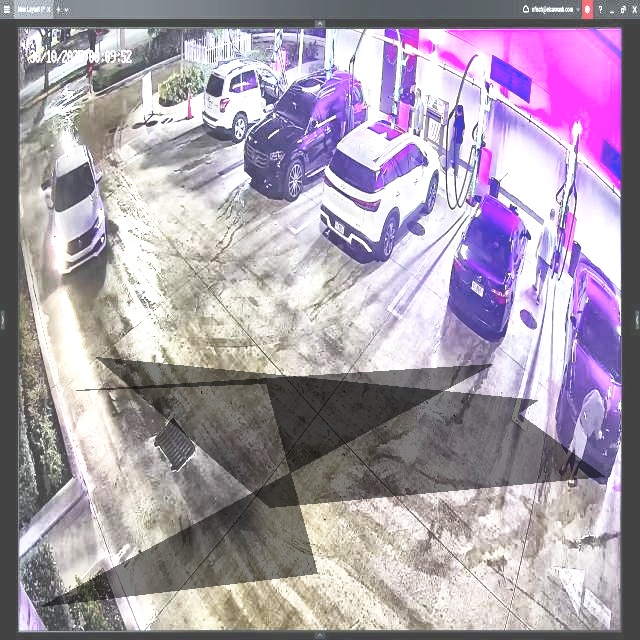Car: (320, 118, 440, 258), (243, 68, 368, 196), (445, 196, 530, 336), (202, 63, 298, 142)
